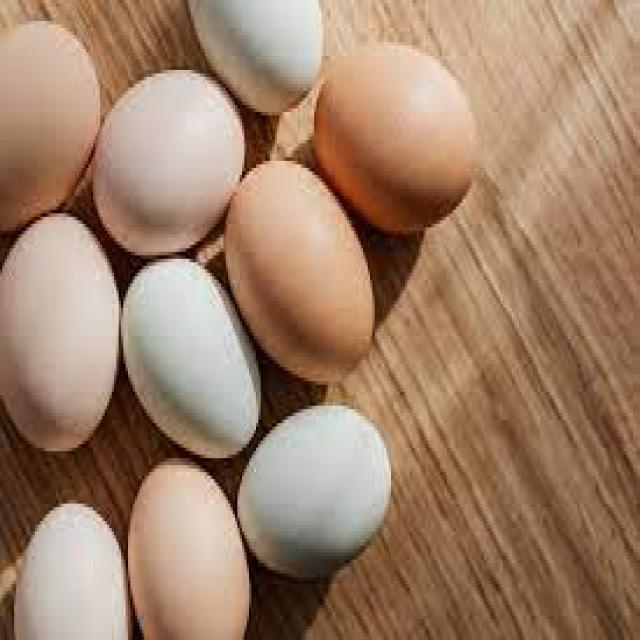egg: (226, 161, 375, 383), (317, 45, 479, 233), (0, 213, 121, 449), (93, 70, 244, 255), (121, 259, 261, 458), (240, 406, 393, 579)
